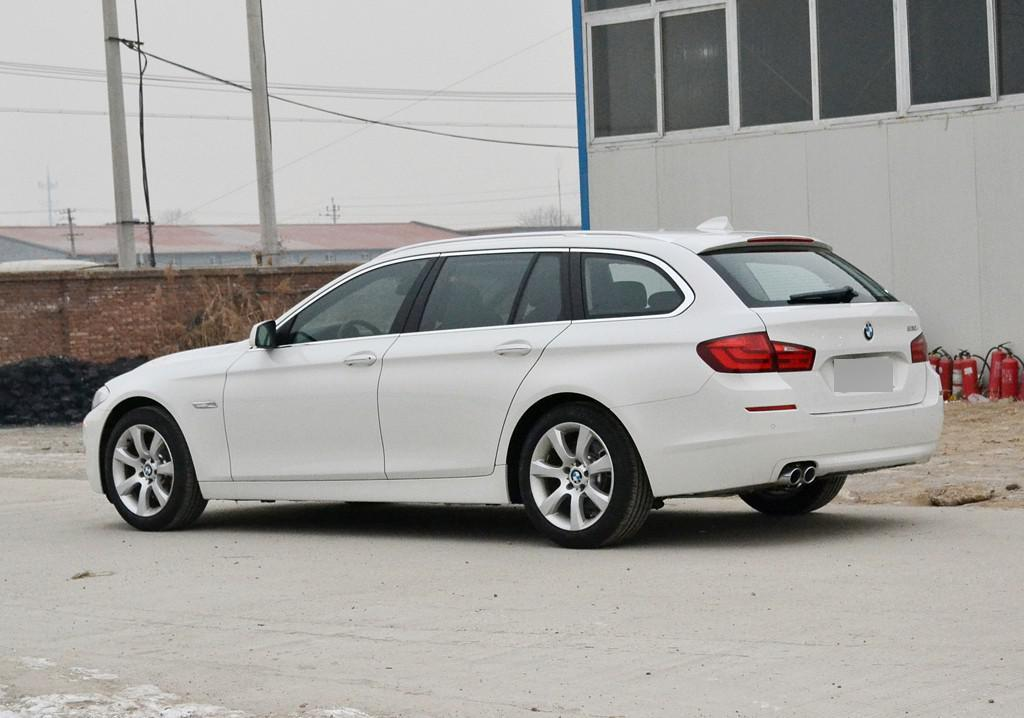Wagon: (80, 212, 949, 549)
